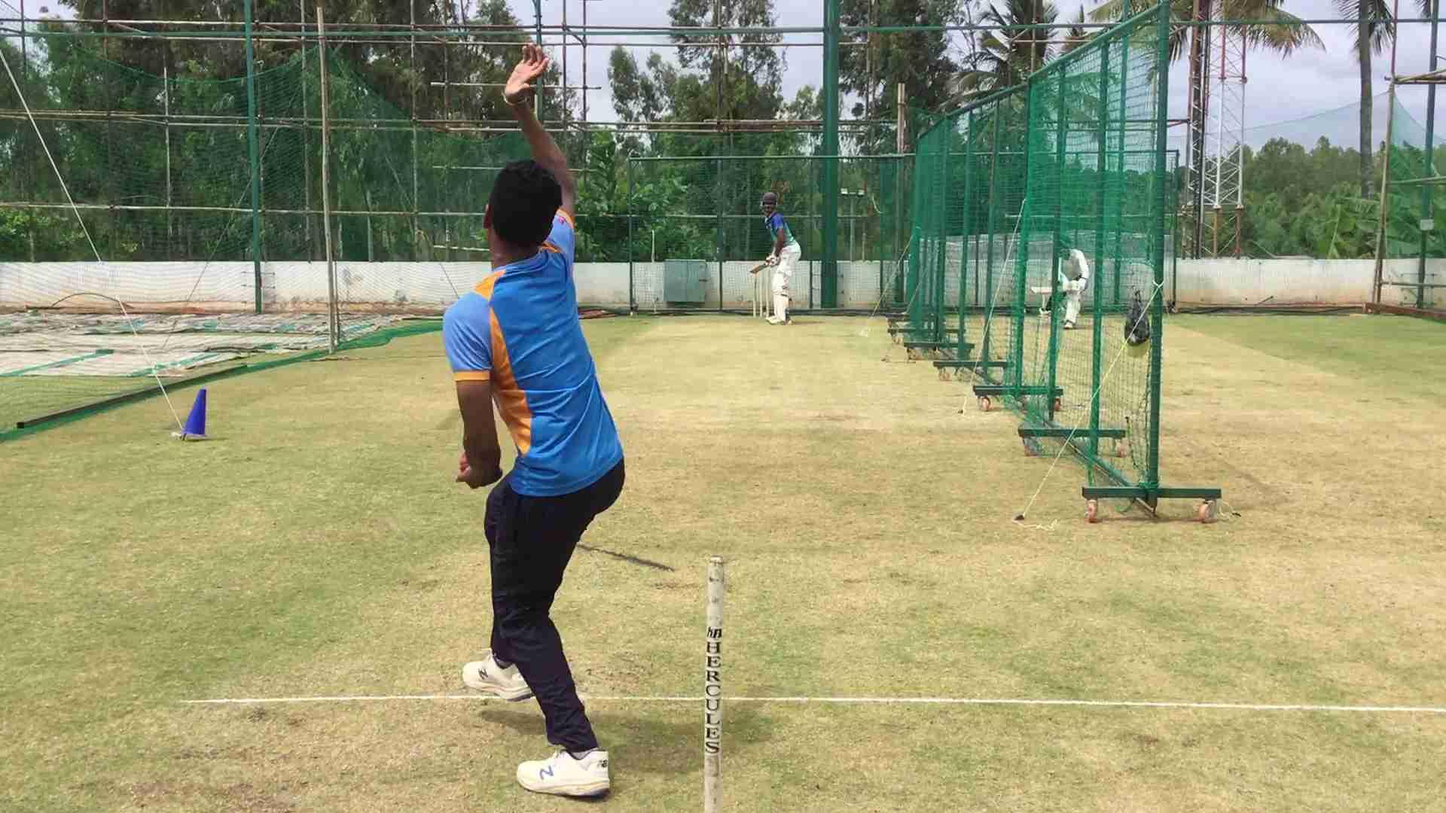batsman: (752, 184, 805, 329)
